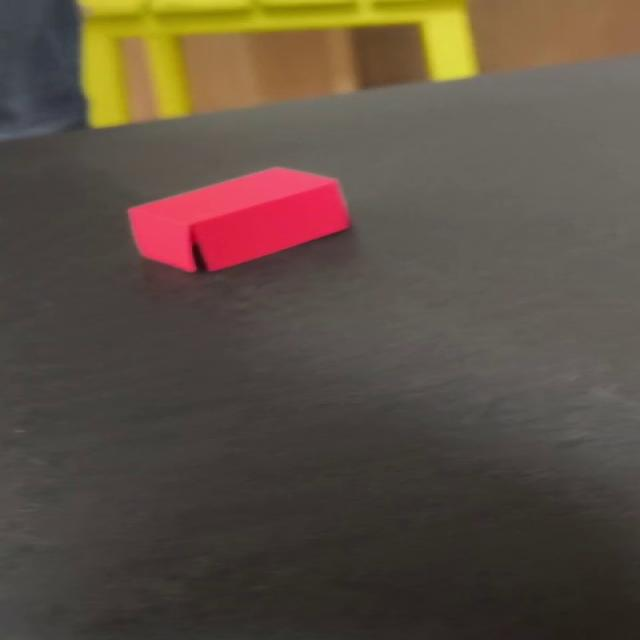red block: (125, 165, 352, 272)
